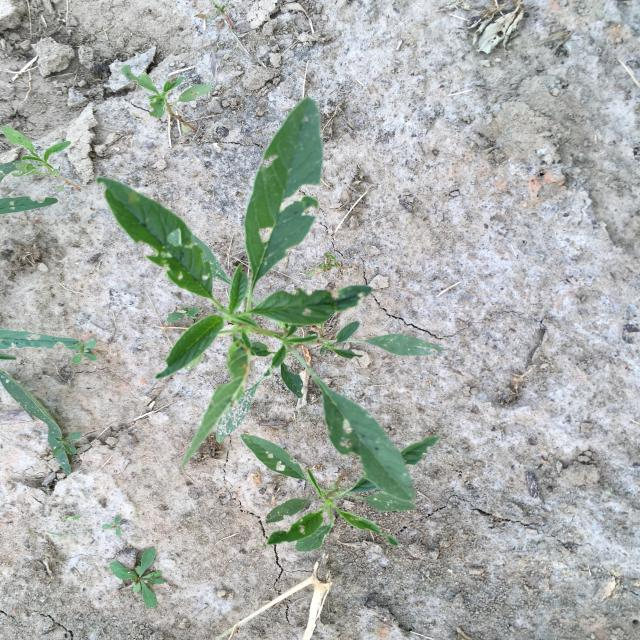Carpetweed: (108, 548, 165, 608), (66, 340, 98, 364), (102, 516, 121, 536)
Waterhemp: (96, 97, 444, 502), (240, 433, 441, 552), (121, 64, 212, 133), (0, 125, 81, 195), (52, 431, 82, 457)
